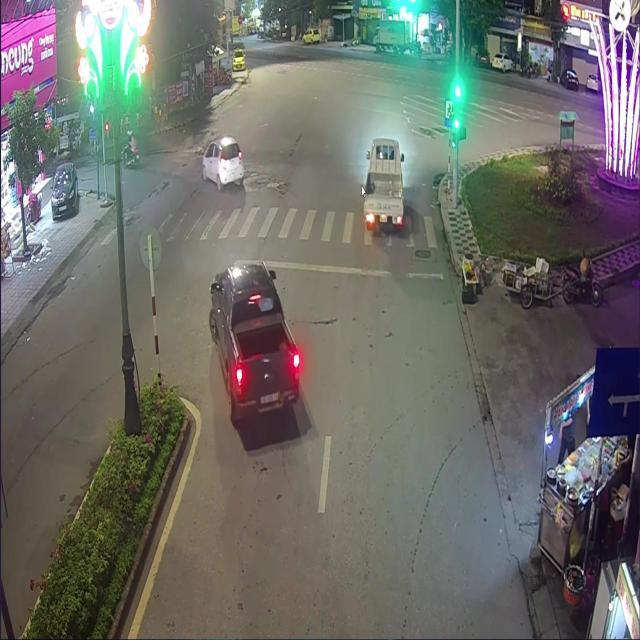car: (208, 260, 302, 425), (361, 137, 403, 232), (201, 135, 243, 188)
green_light: (452, 97, 459, 127)
stop_line: (231, 258, 442, 280)
